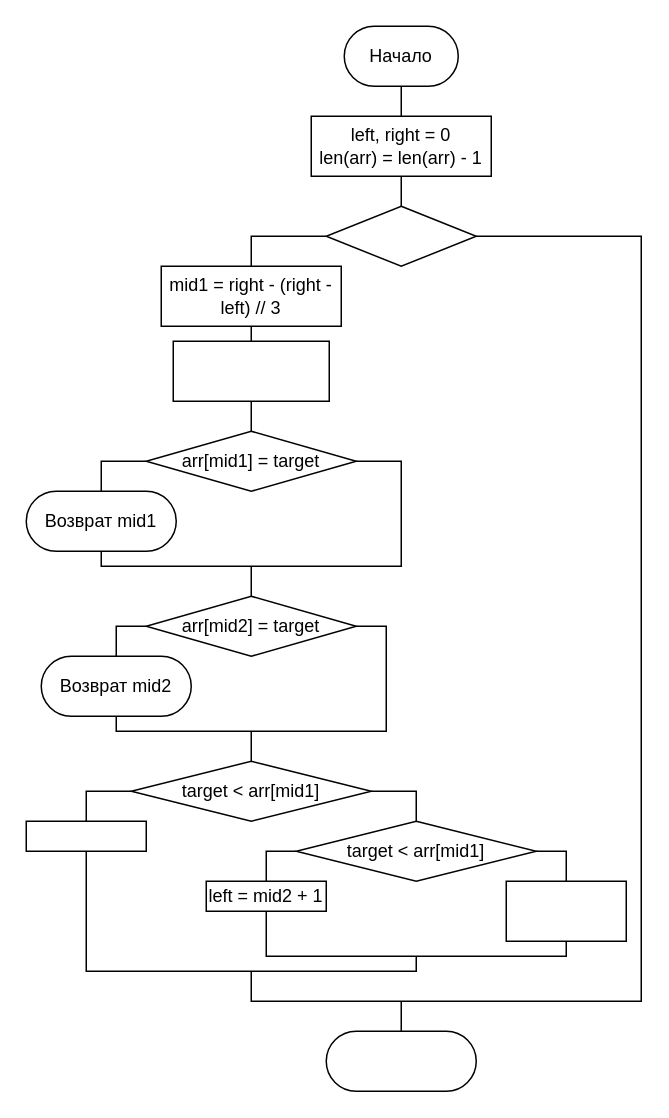
Some shapes in this 669 by 1118 pixel diagram are drawn without their labels. The shapes that lost their labels are listed below. From the top down, each one's centre as x and y in pixels, then its label:
[400,235]: left <= right
[250,370]: mid2 = left + (right - left) // 3
[85,835]: right = mid1 -1
[565,910]: left = mid1 + 1 right = mid2 -1
[400,1060]: Возврат -1
